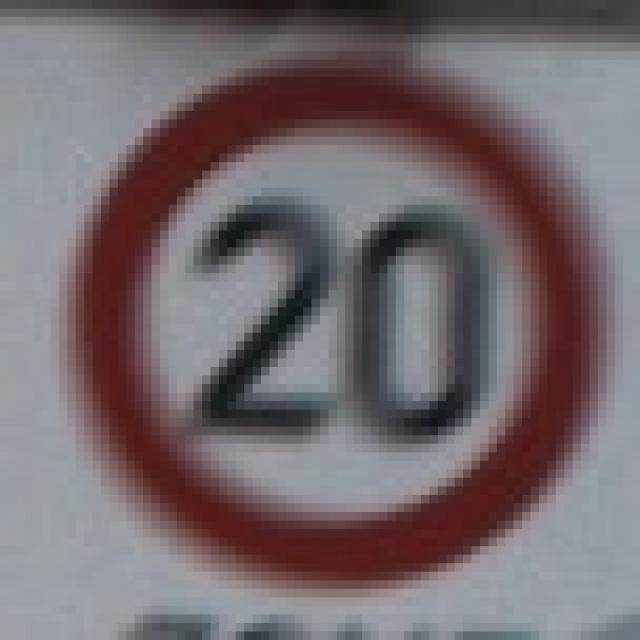Speed Limit -20-: (51, 51, 590, 589)
